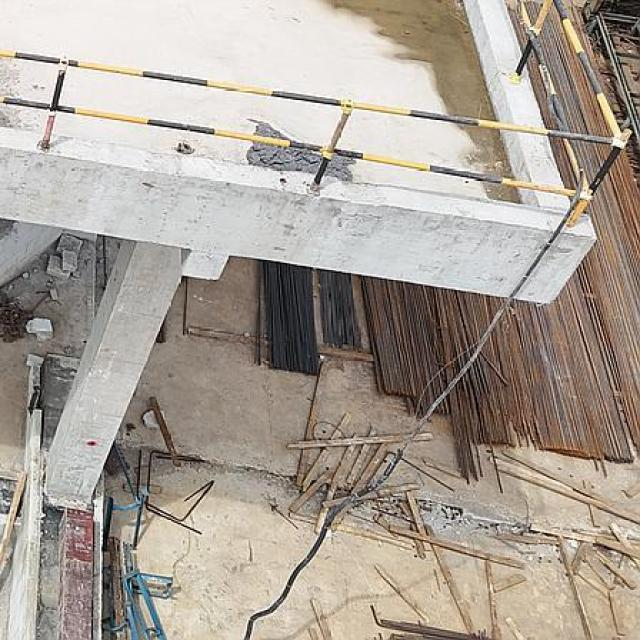Guardrail: (0, 0, 633, 229)
